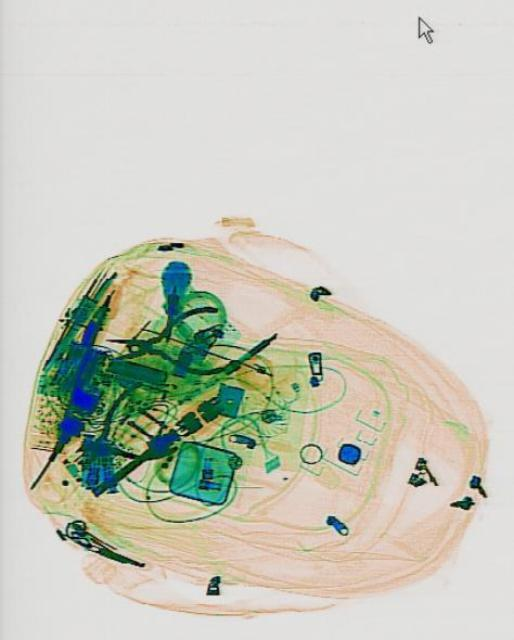Pliers: (60, 372, 177, 494), (103, 304, 224, 382)
